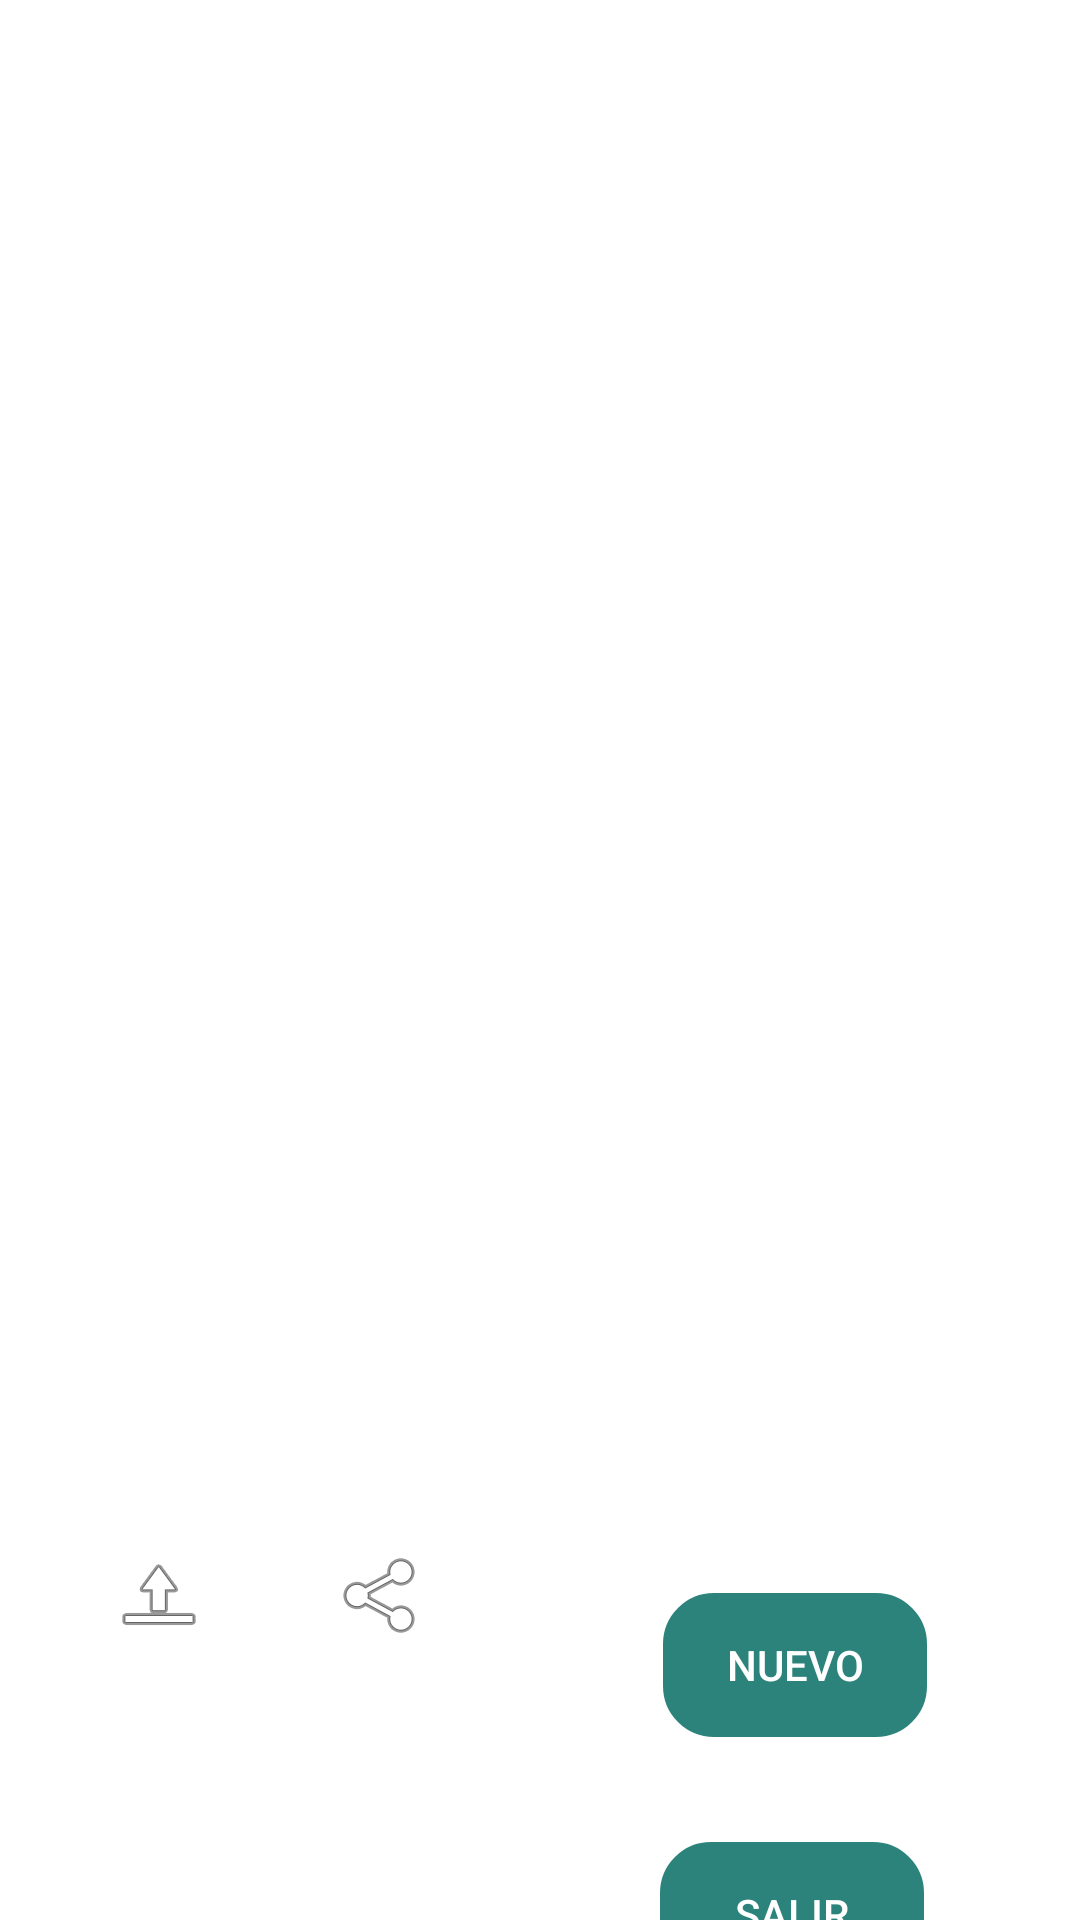

Point at icon controls on the screen. Image size 1080 x 1920, points as (x=x, y=y).
share: (x=379, y=1595)
upload: (x=159, y=1594)
